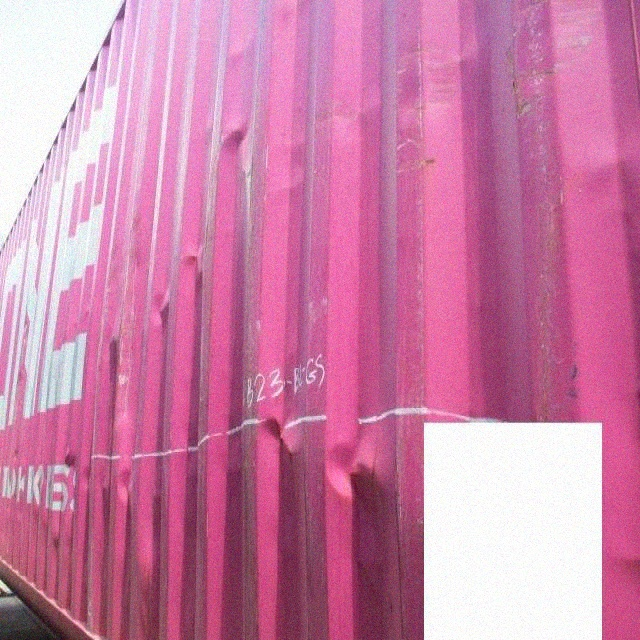Dent: (256, 397, 405, 568), (97, 233, 217, 393), (87, 454, 168, 640)
